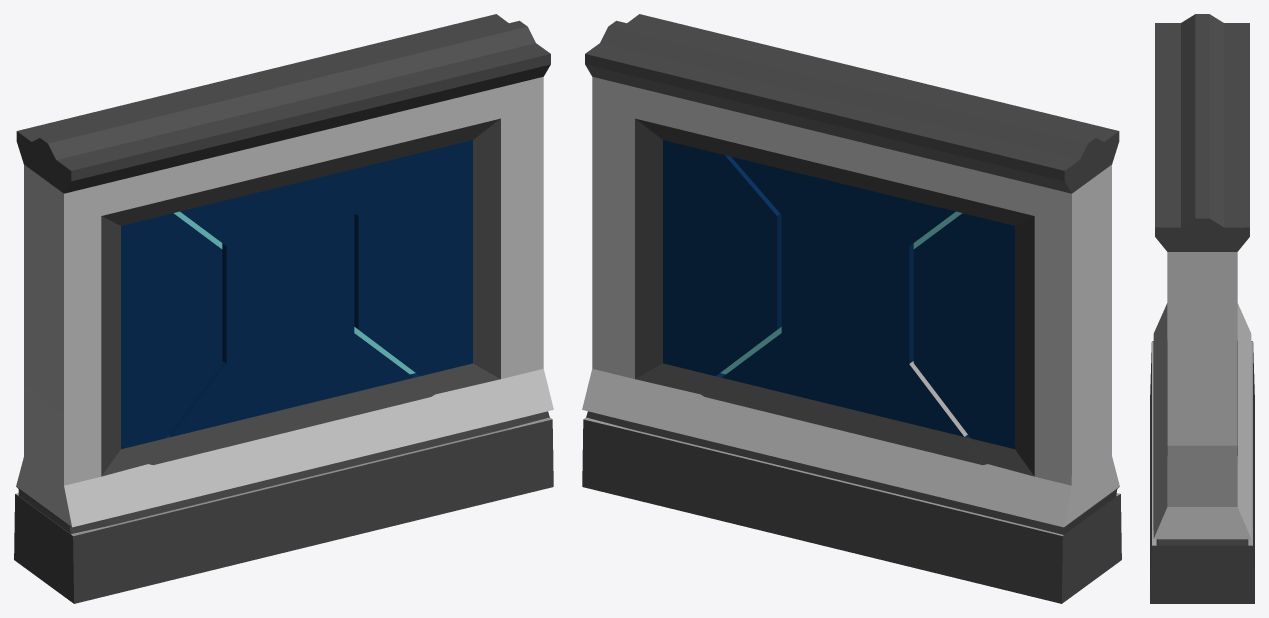
The model's file is Outer_Wall.fbx.
The picture shows the model from 3 angles, left to right: view 1: azimuth 30°, elevation 25°; view 2: azimuth 150°, elevation 25°; view 3: azimuth 270°, elevation 25°; orthographic projection. The views are drawn at different scales.
Parts seen in each view (by area): view 1: Outer_Wall; view 2: Outer_Wall; view 3: Outer_Wall.
Part boxes in pixels (x1=…): Outer_Wall: x1=14, y1=14, x2=553, y2=603; Outer_Wall: x1=582, y1=14, x2=1121, y2=603; Outer_Wall: x1=1150, y1=14, x2=1254, y2=603.
Size of the model in its own units: 5.85 by 1.26 by 5.12.
